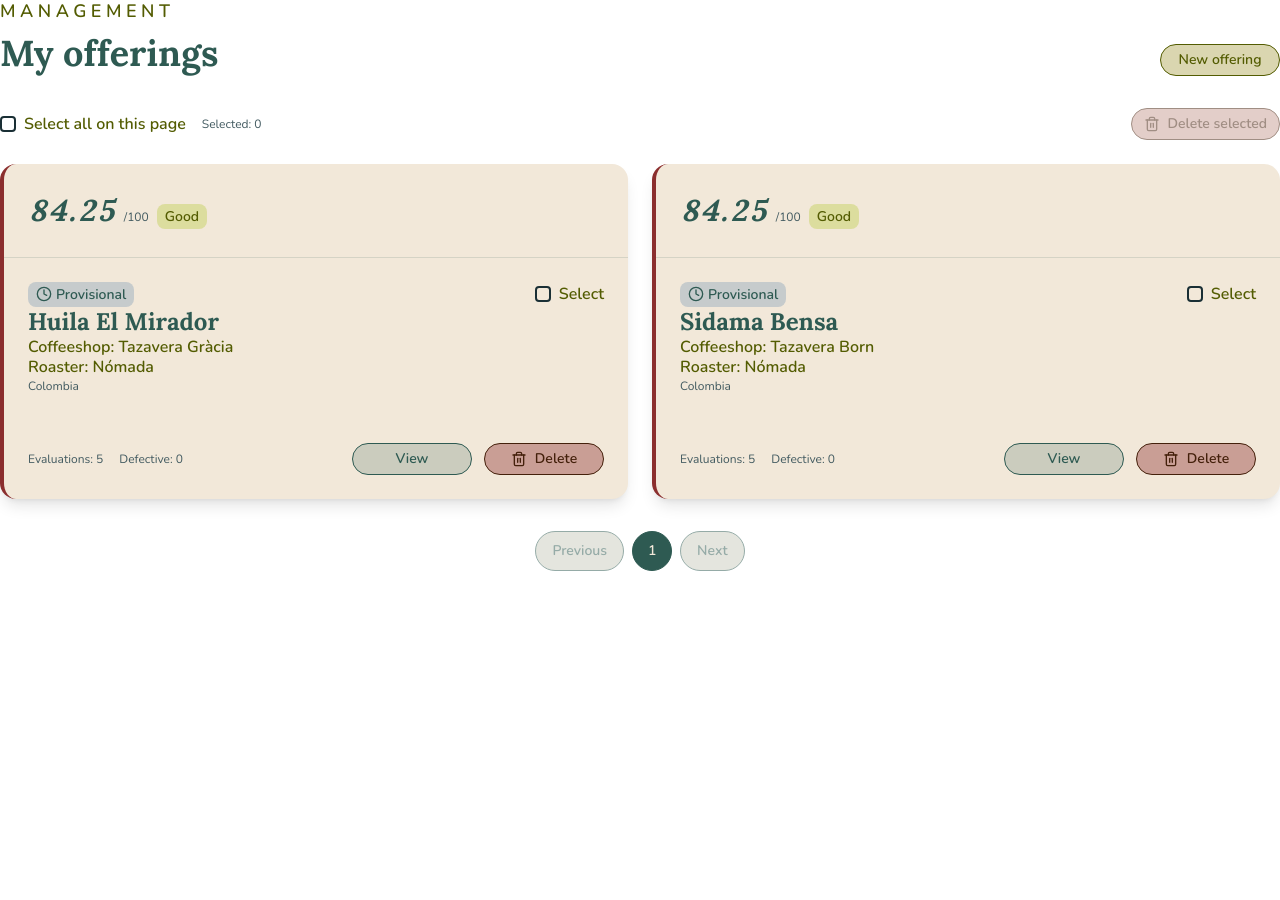
ManageOfferingsPanel — deleting (spec 'Deleting offerings') › deletes one offering after confirmation: closes, announces 1, reloads and focuses the heading
This screenshot has width=1280, height=900.
Click the button with aria-label "Delete Huila El Mirador — Tazavera Gràcia" at x=544, y=458, box [484,442,604,474]
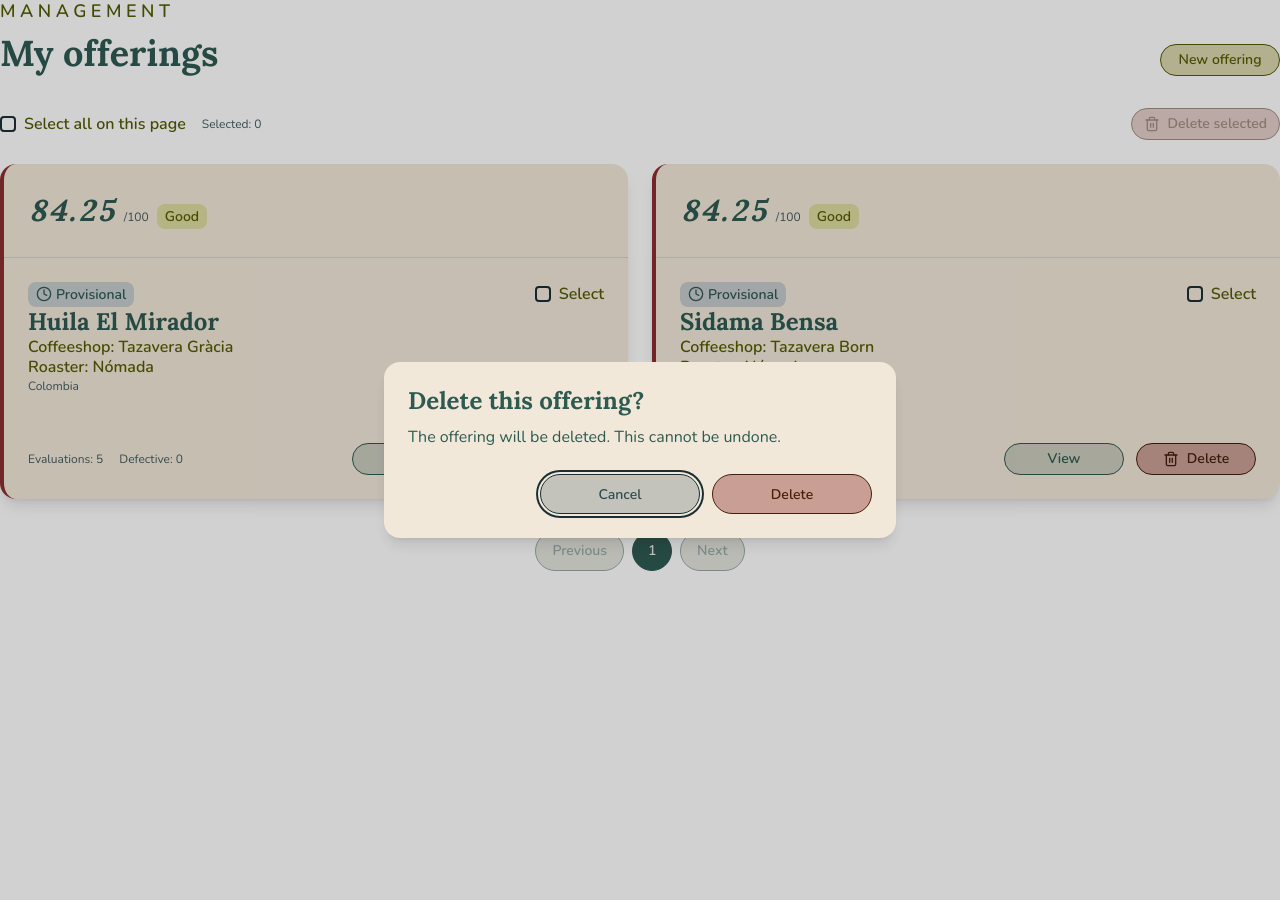
Check: the dialog "Delete this offering?" is shown, box [384,362,896,538]
Click the button "Delete" at x=792, y=494, box [712,474,872,514]
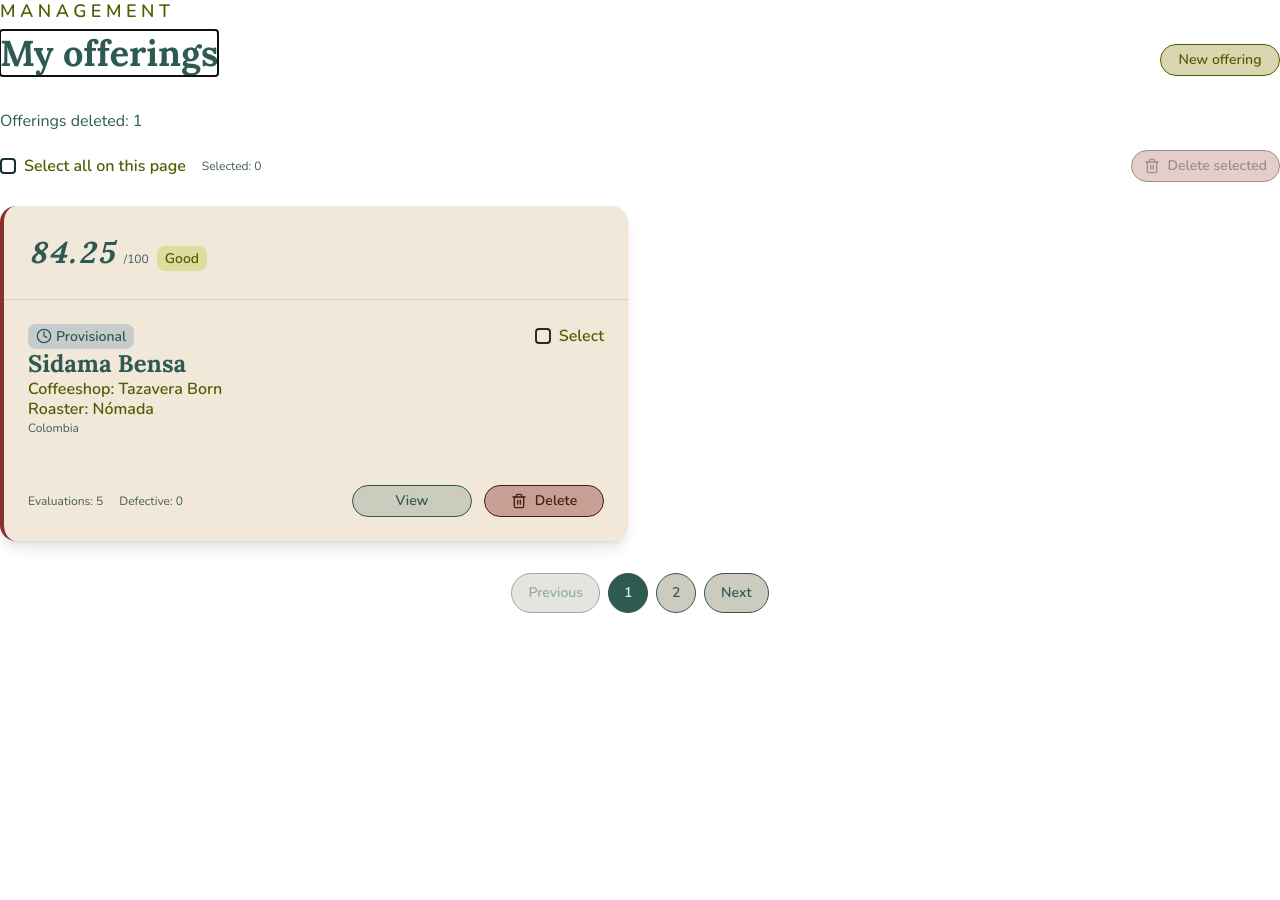
Check: the dialog is gone
Check: the message reads "Offerings deleted: 1", box [0,110,142,132]
